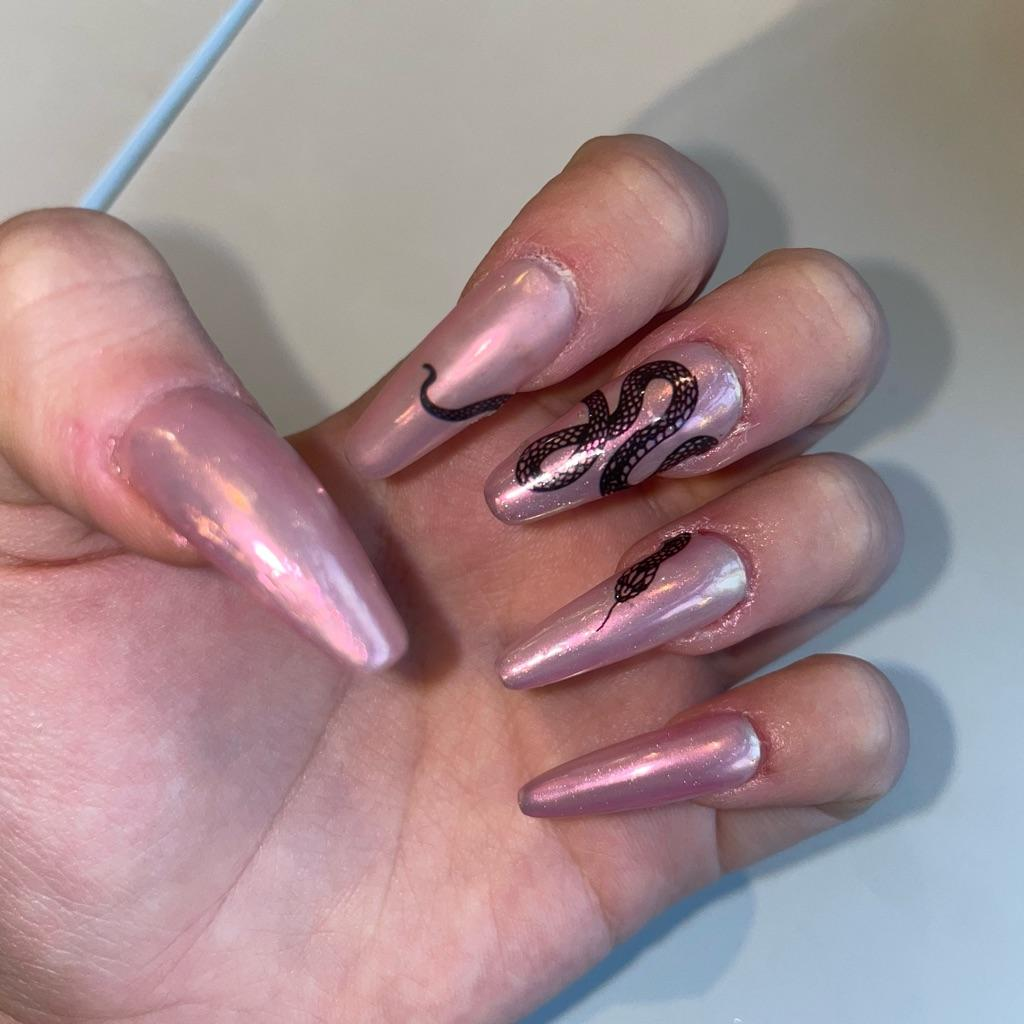nail: (110, 383, 410, 672), (515, 651, 910, 819), (341, 251, 581, 480), (483, 338, 743, 524), (493, 526, 750, 691), (516, 707, 763, 818)
